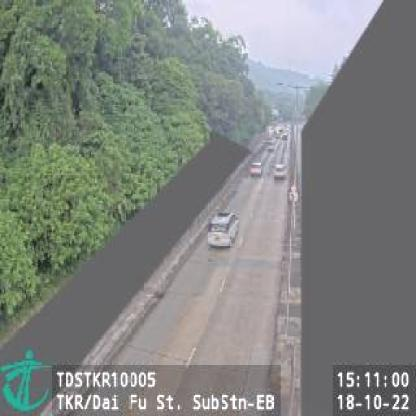Car: (207, 210, 239, 250), (273, 161, 286, 179), (251, 160, 264, 177)
